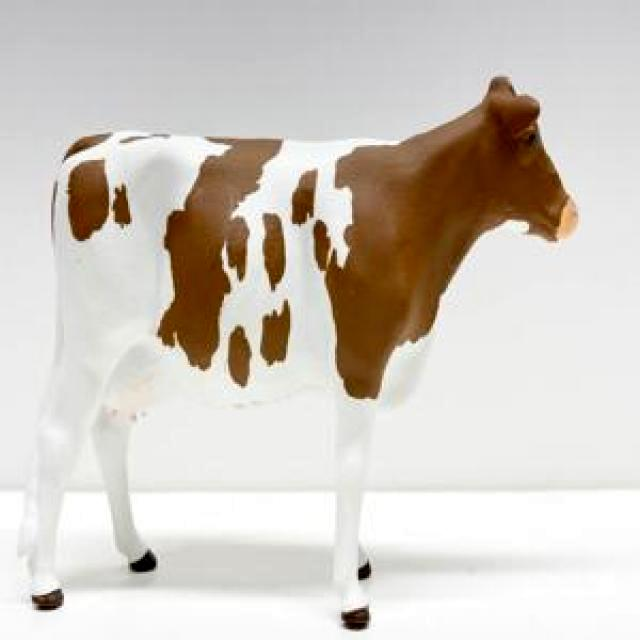COW: (21, 78, 578, 629)
